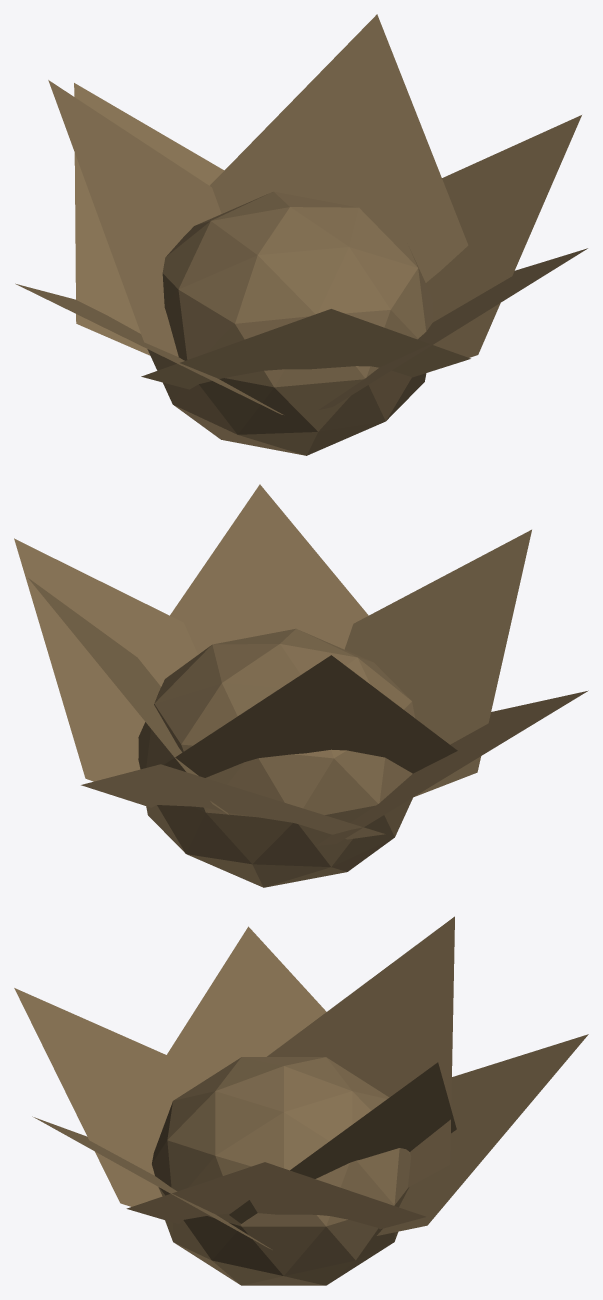
The model's file is cabbage_dead.glb.
3 views of the same model, one above another, from view 1: azimuth 30°, elevation 25°; view 2: azimuth 150°, elevation 25°; view 3: azimuth 270°, elevation 25° (orthographic). The views are drawn at different scales.
Visible parts, largest first — view 1: cabbage; view 2: cabbage; view 3: cabbage.
Part boxes in pixels (x1,y1,x2,y2): cabbage: (15,14,587,455); cabbage: (14,484,588,887); cabbage: (14,916,588,1285).
Size of the model in its own units: 0.3521 by 0.1907 by 0.336.
